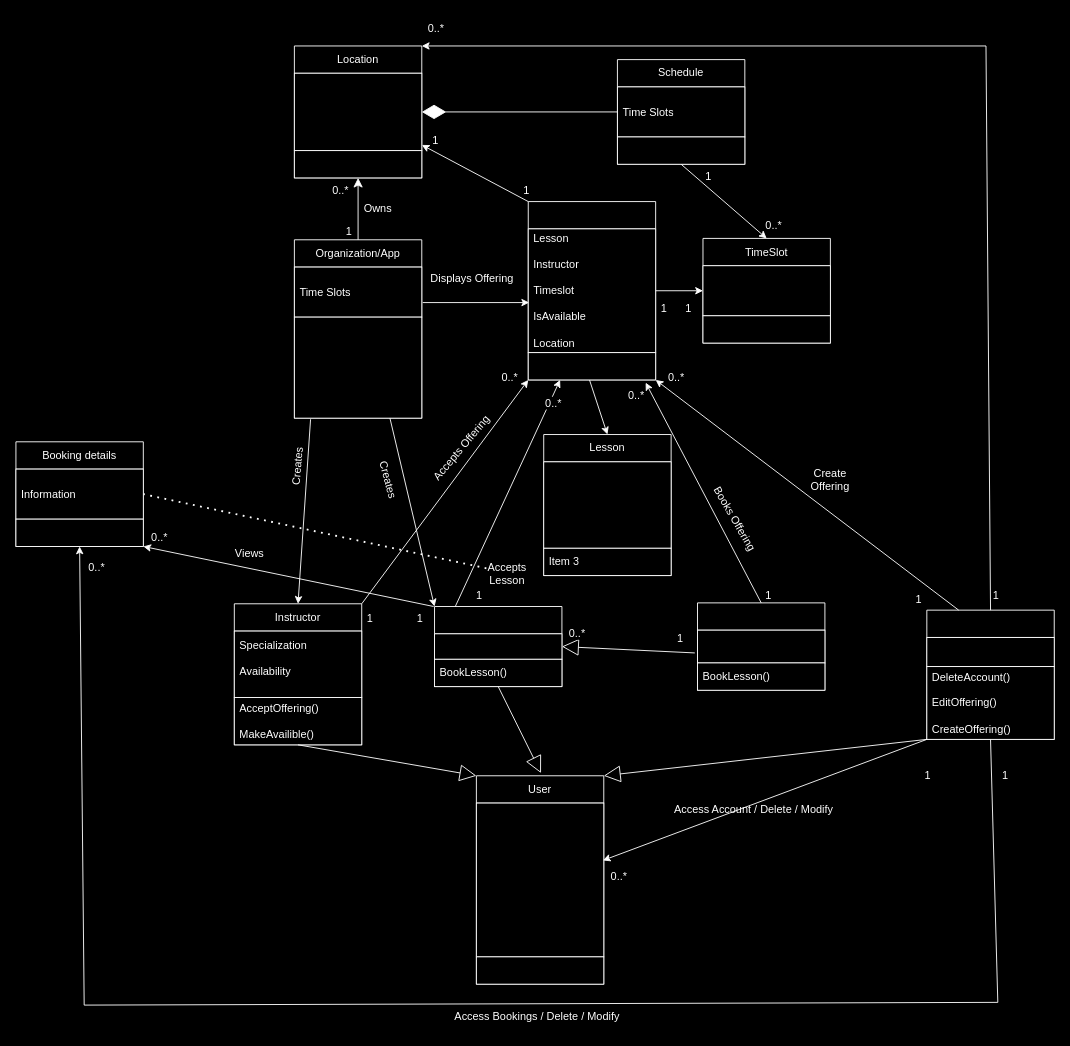
This 1070x1046 diagram has some shape labels left out. Each missing label, with the box of its shape:
Address Location Type Scheduale: (293, 72, 422, 151)
Adminstrator: (926, 609, 1054, 739)
Client: (434, 606, 562, 687)
Guardian: (697, 602, 825, 690)
Lesson Name Duration Public / Is_group: (543, 461, 671, 548)
MakeAvailable() RegisterUser() RegisterInstructor() DisplayOffering: (293, 316, 422, 418)
Offering: (527, 201, 656, 380)
Start Time EndTime: (702, 265, 830, 316)
Username Password Name Phone_number Age UserId: (475, 802, 604, 957)
